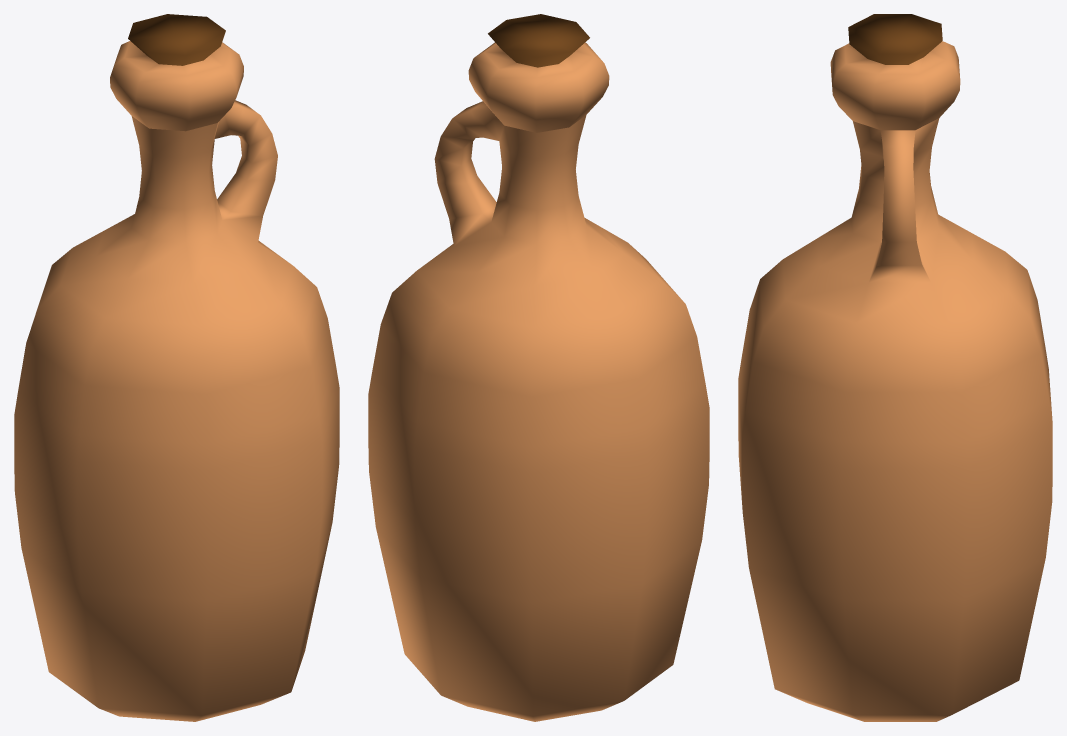
Rendered from Vino.fbx.
3 renders of one model, left to right at view 1: azimuth 30°, elevation 25°; view 2: azimuth 150°, elevation 25°; view 3: azimuth 270°, elevation 25°, orthographic.
Parts seen in each view (by area): view 1: Cube.001; view 2: Cube.001; view 3: Cube.001.
Part boxes in pixels (box(x1,y1,x2,y2)): Cube.001: box(14, 14, 339, 721); Cube.001: box(368, 14, 709, 721); Cube.001: box(738, 14, 1052, 721).
Size of the model in its own units: 31.03 by 70.69 by 31.03.
